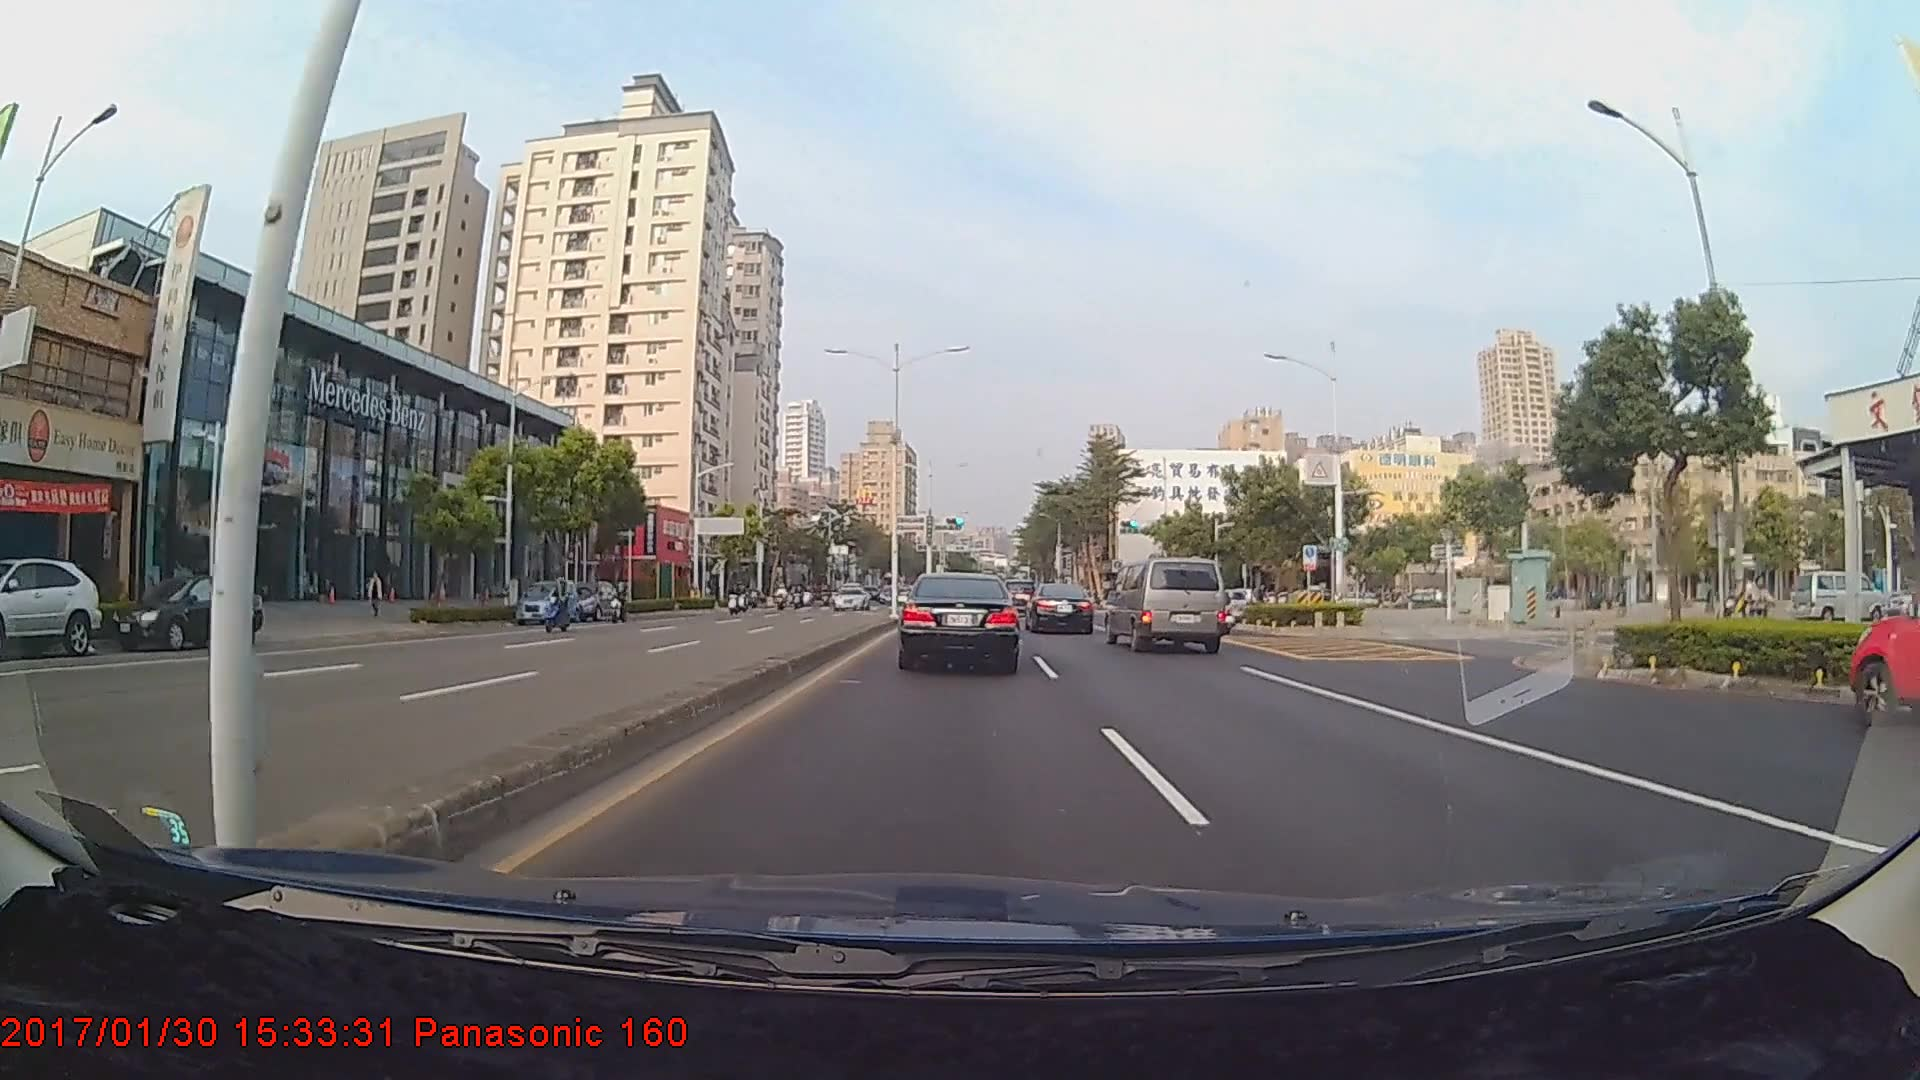pedestrian: (366, 570, 388, 622)
rider: (544, 577, 577, 638), (608, 579, 637, 626)
vehicle: (104, 570, 264, 651), (896, 570, 1019, 674), (1846, 556, 1920, 728), (1104, 555, 1226, 654), (0, 556, 102, 660), (1026, 582, 1096, 635), (515, 577, 580, 623), (566, 580, 618, 622), (831, 584, 870, 610)
